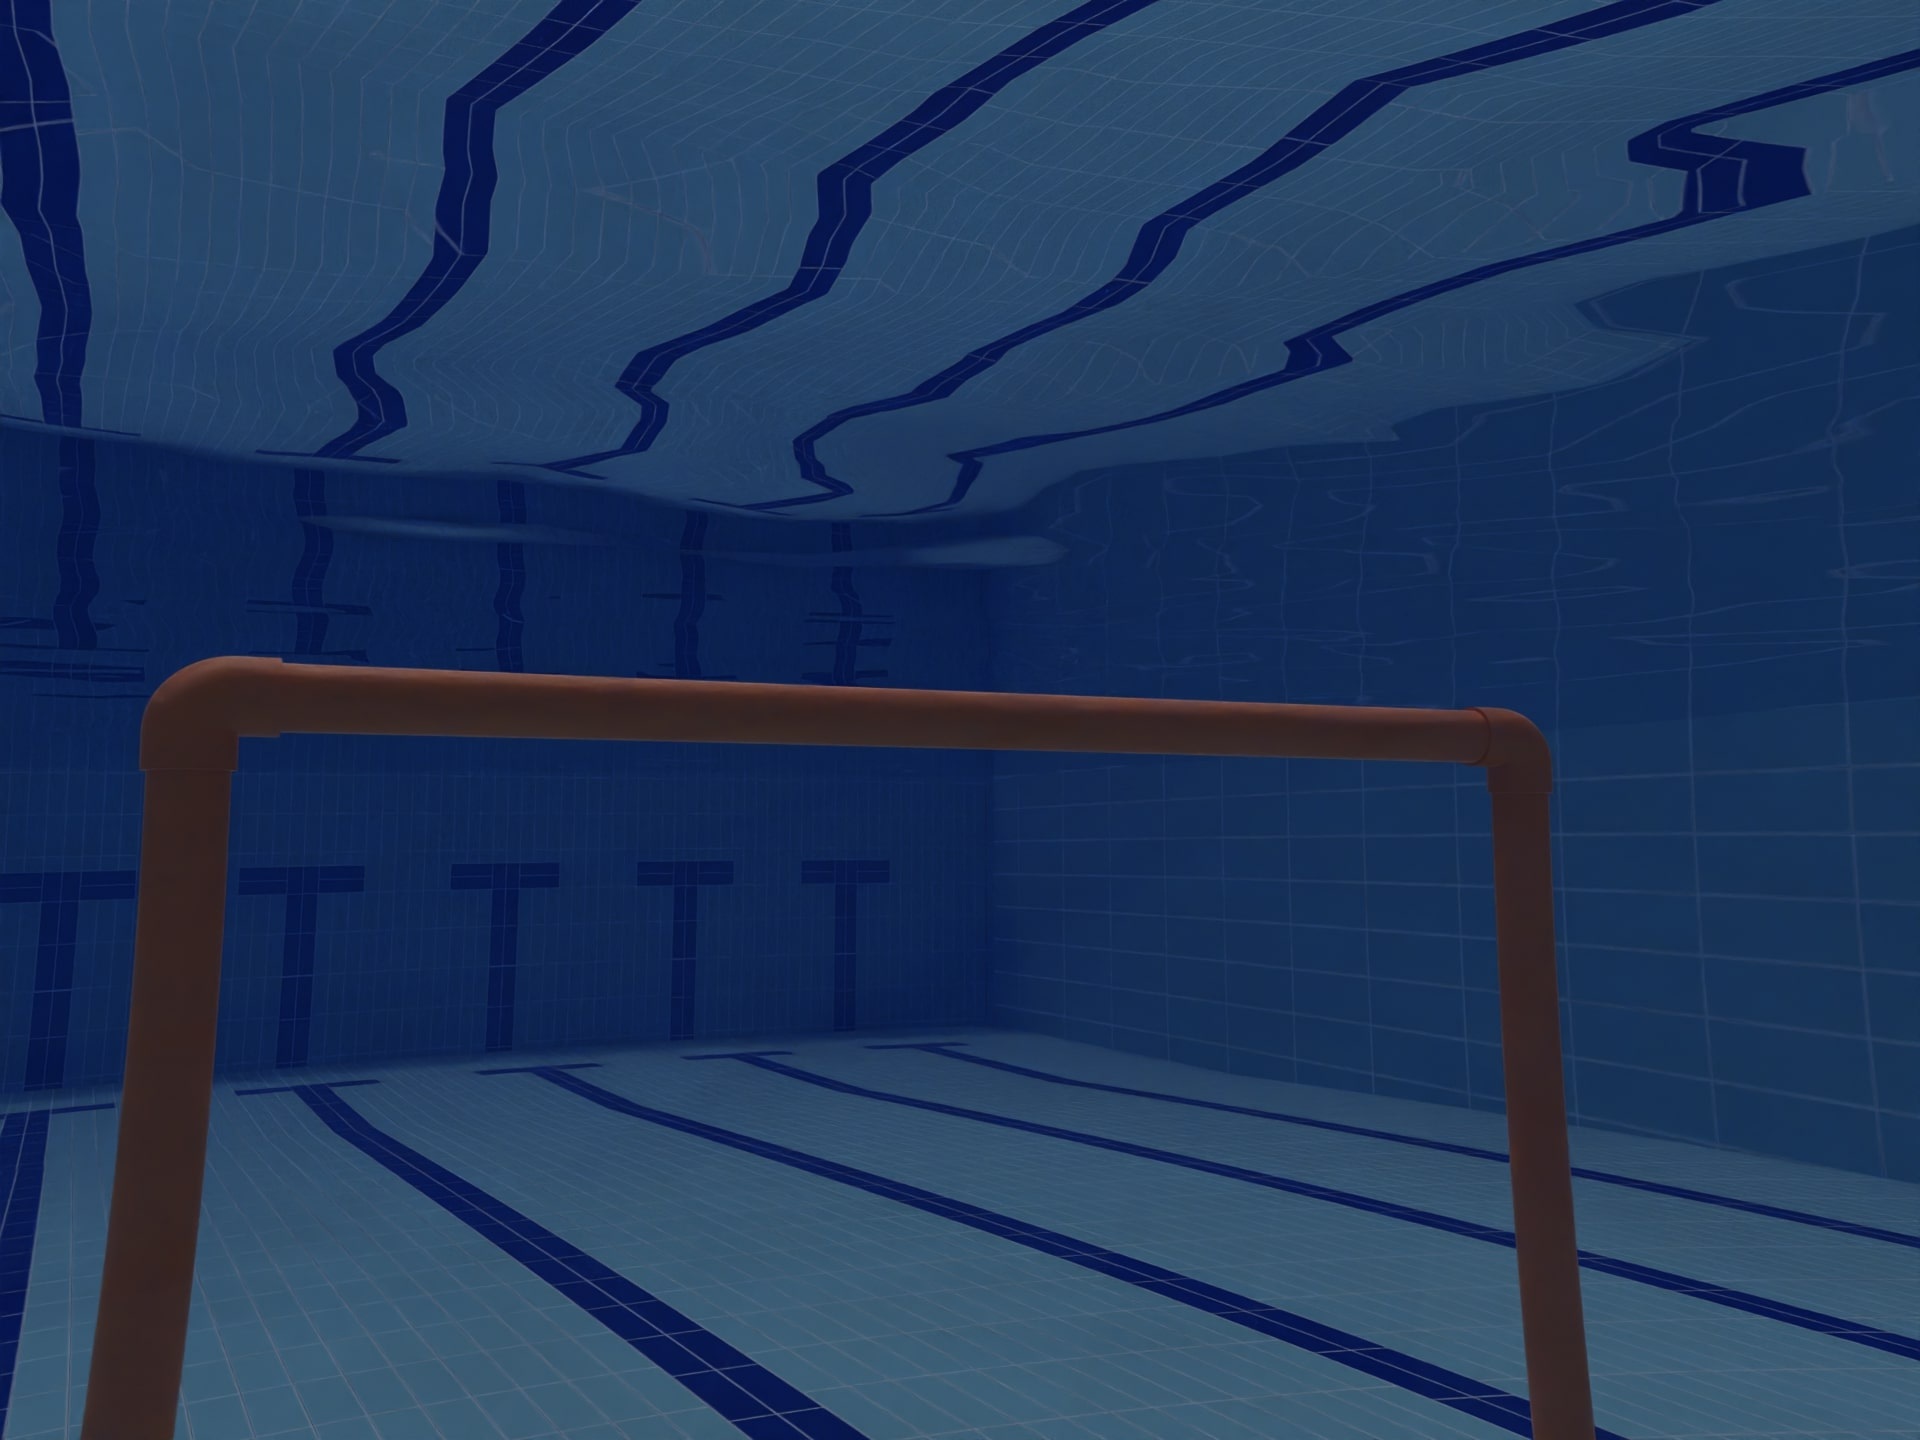gate: (51, 601, 1625, 1440)
